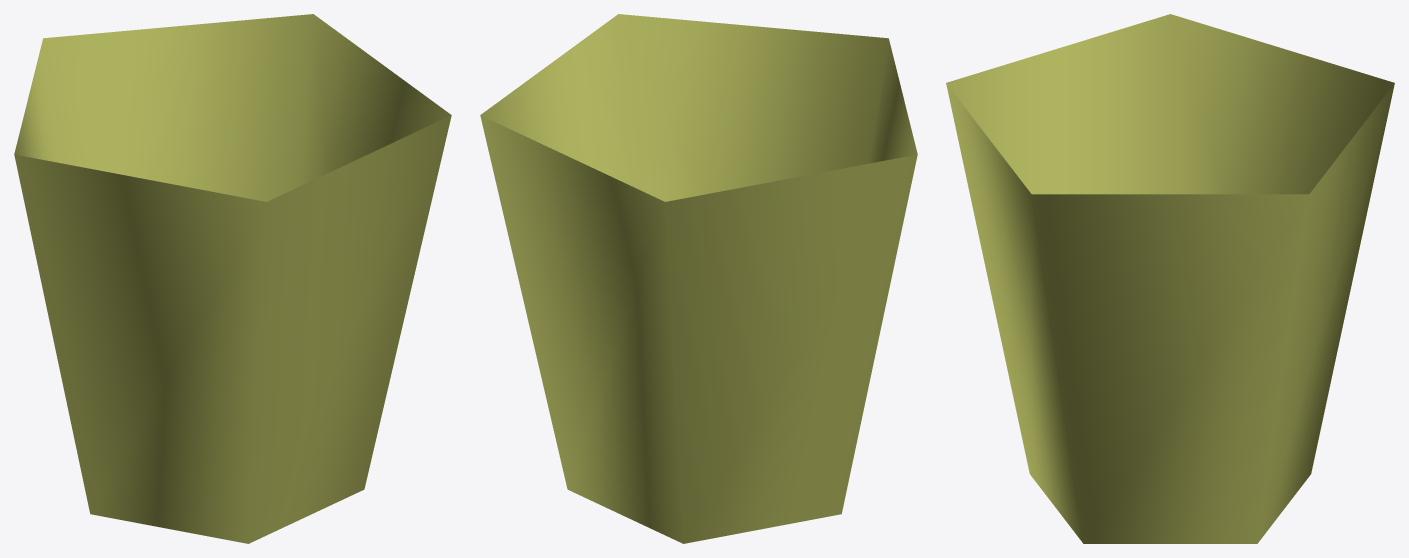
The model's file is LampGlow.fbx.
3 renders of one model, left to right at view 1: azimuth 30°, elevation 25°; view 2: azimuth 150°, elevation 25°; view 3: azimuth 270°, elevation 25°, orthographic.
Parts seen in each view (by area): view 1: Lamp; view 2: Lamp; view 3: Lamp.
Part boxes in pixels (box(x1,y1,x2,y2)): Lamp: box(14, 14, 451, 543); Lamp: box(480, 14, 917, 543); Lamp: box(946, 14, 1394, 543).
Bounding box in the file's own units: 47.12 × 46.23 × 49.55.
